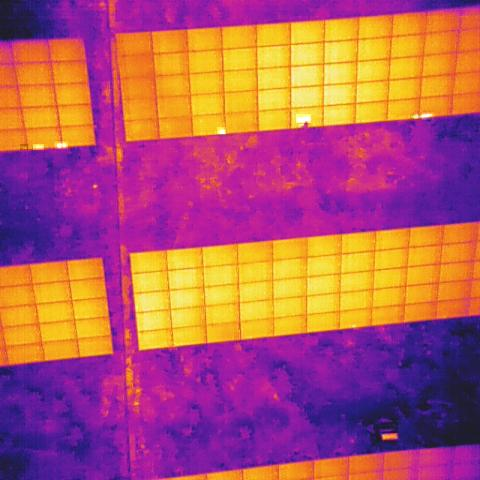fault: (296, 114, 311, 123), (55, 141, 68, 149), (422, 112, 434, 120), (33, 144, 44, 150), (217, 127, 226, 134), (410, 114, 420, 120), (20, 144, 28, 150)
